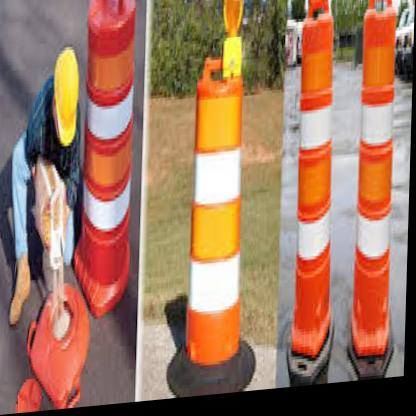obstacle: (75, 0, 145, 317), (189, 71, 249, 371), (292, 19, 342, 363)
